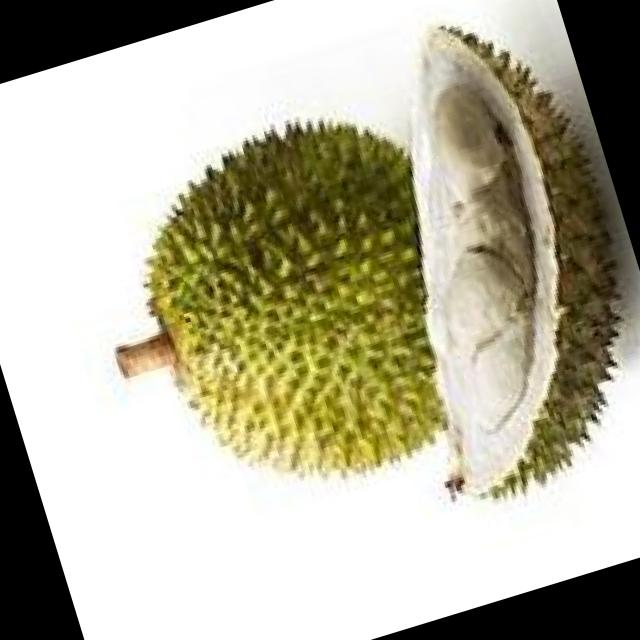fruit: (71, 62, 533, 580)
